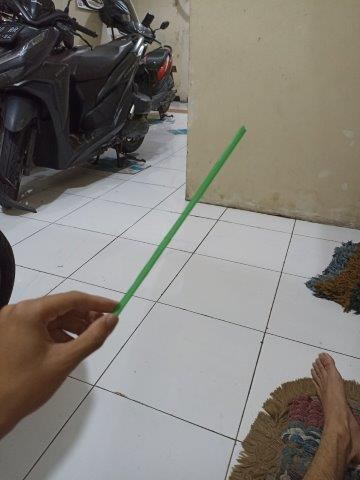sedotan: (112, 127, 246, 315)
